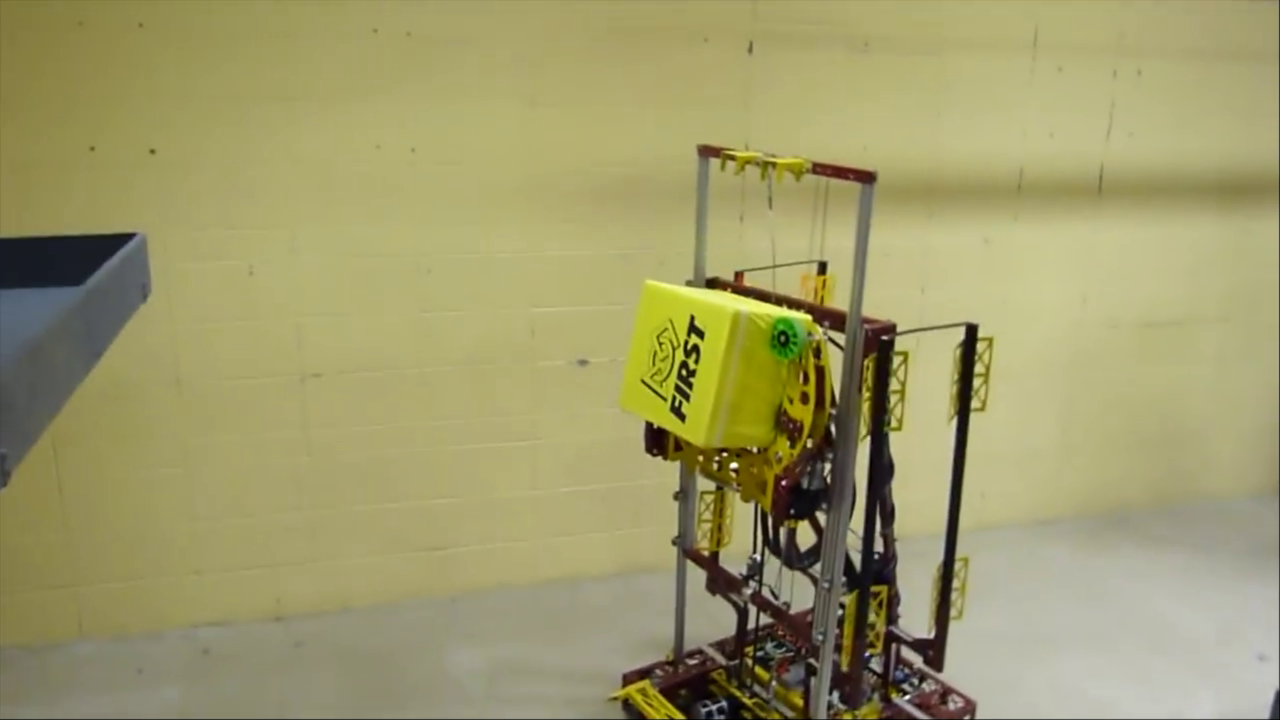cube: (622, 279, 813, 450)
